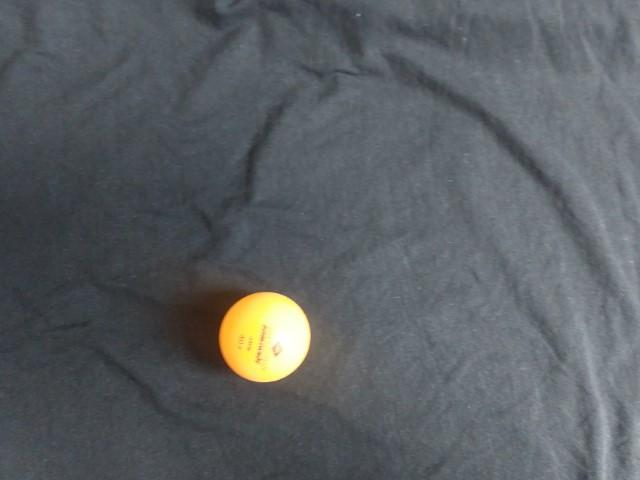oball: (319, 91, 428, 198)
